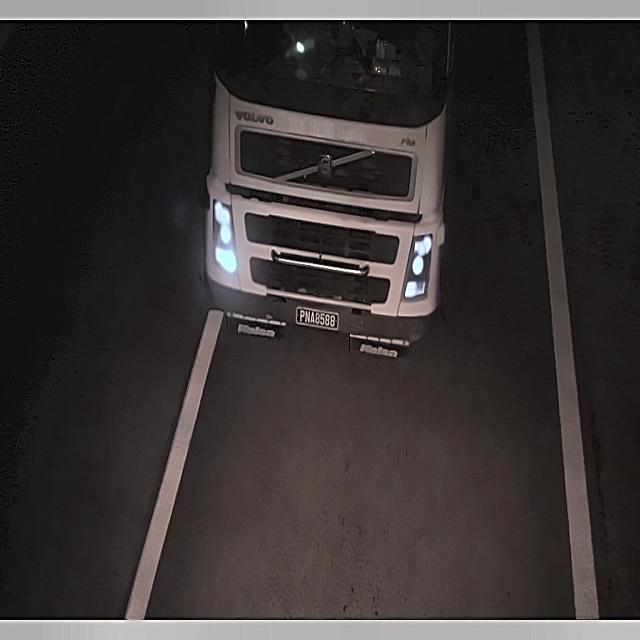car: (289, 305, 345, 336)
